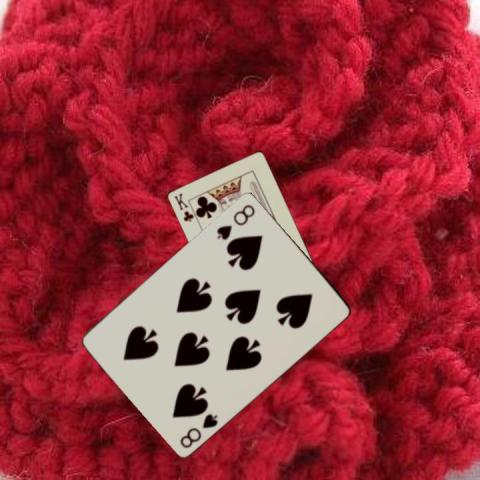8s: (213, 201, 257, 241), (177, 410, 219, 449)
Kc: (170, 190, 194, 223)
